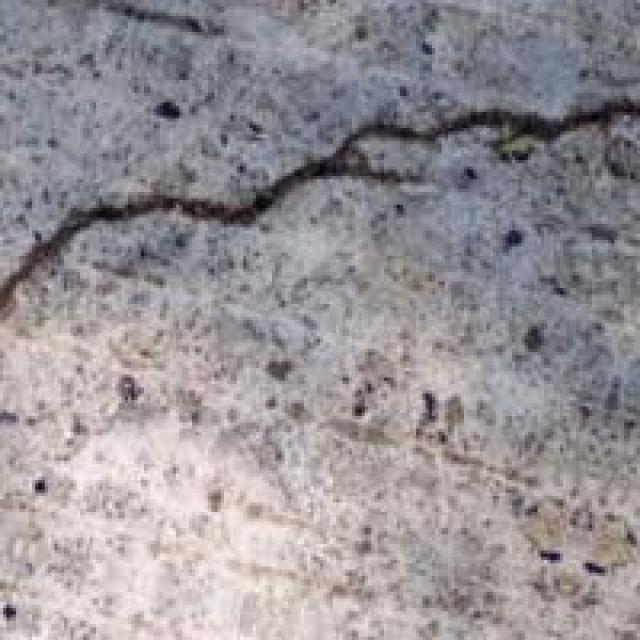crack: (0, 58, 637, 278)
